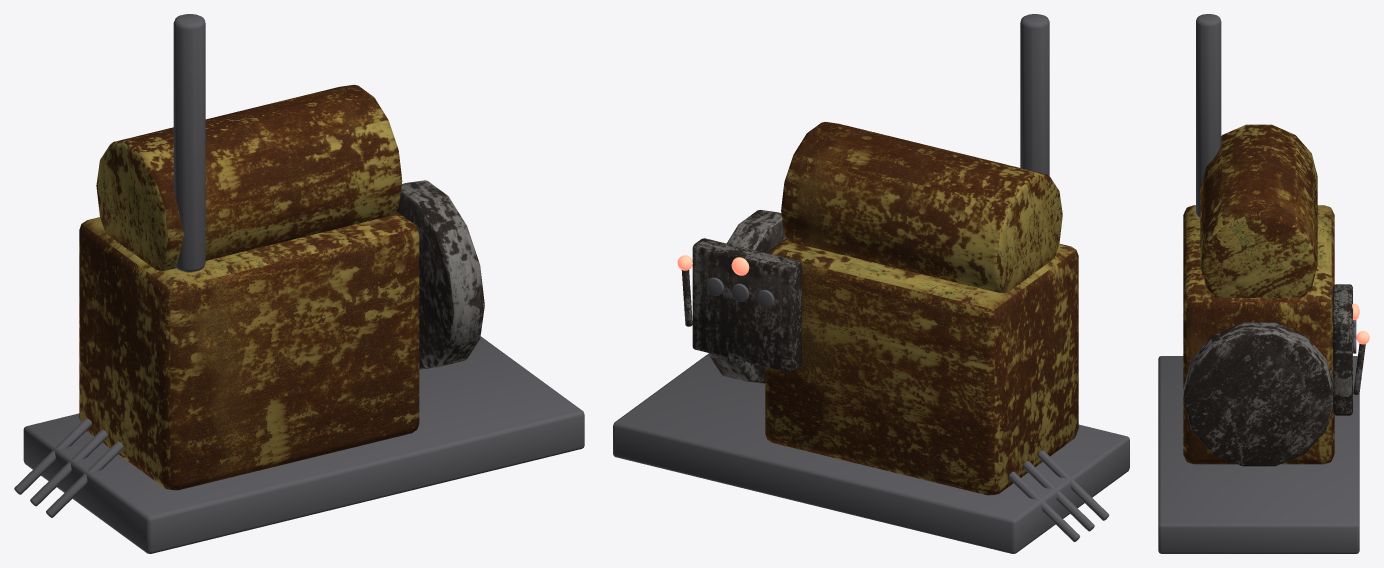
Rendered from prop_generator.glb.
The picture shows the model from 3 angles, left to right: view 1: azimuth 30°, elevation 25°; view 2: azimuth 150°, elevation 25°; view 3: azimuth 270°, elevation 25°; orthographic projection. The views are drawn at different scales.
Visible parts, largest first — view 1: EngineBlock, Skid, FuelTank, Flywheel, Exhaust, Cable1, Cable2, Cable0; view 2: EngineBlock, Skid, FuelTank, ControlPanel, Exhaust, Flywheel, Cable2, Cable0, Cable1; view 3: Skid, FuelTank, Flywheel, EngineBlock, Exhaust, ControlPanel, LeverArm.
Boxes of the visible parts, bbox=[...] form: EngineBlock: bbox=[79, 211, 419, 490]; Skid: bbox=[23, 336, 584, 553]; FuelTank: bbox=[96, 84, 402, 270]; Flywheel: bbox=[396, 180, 484, 369]; Exhaust: bbox=[173, 14, 205, 271]; Cable1: bbox=[30, 429, 107, 506]; Cable2: bbox=[46, 441, 123, 517]; Cable0: bbox=[14, 418, 91, 494]; EngineBlock: bbox=[765, 238, 1078, 495]; Skid: bbox=[613, 353, 1129, 553]; FuelTank: bbox=[781, 122, 1062, 292]; ControlPanel: bbox=[692, 238, 801, 372]; Exhaust: bbox=[1020, 14, 1049, 175]; Flywheel: bbox=[709, 210, 786, 383]; Cable2: bbox=[1037, 450, 1109, 520]; Cable0: bbox=[1008, 471, 1079, 541]; Cable1: bbox=[1023, 460, 1094, 531]; Skid: bbox=[1158, 356, 1359, 553]; FuelTank: bbox=[1200, 124, 1317, 297]; Flywheel: bbox=[1183, 322, 1332, 466]; EngineBlock: bbox=[1183, 205, 1334, 464]; Exhaust: bbox=[1196, 14, 1221, 217]; ControlPanel: bbox=[1332, 284, 1352, 415]; LeverArm: bbox=[1353, 343, 1365, 394].
Bounding box in the file's own units: 2.61 × 2.6 × 1.26.
Materials: 4 (2 with a texture image).
